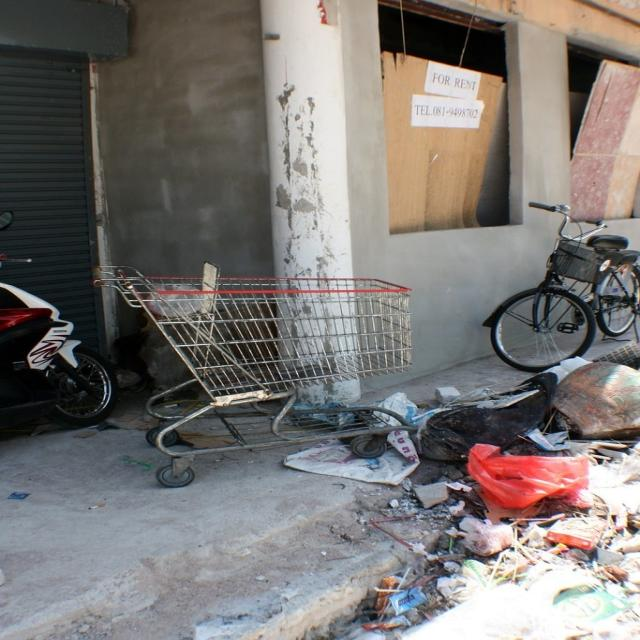Metal: (87, 224, 484, 502)
